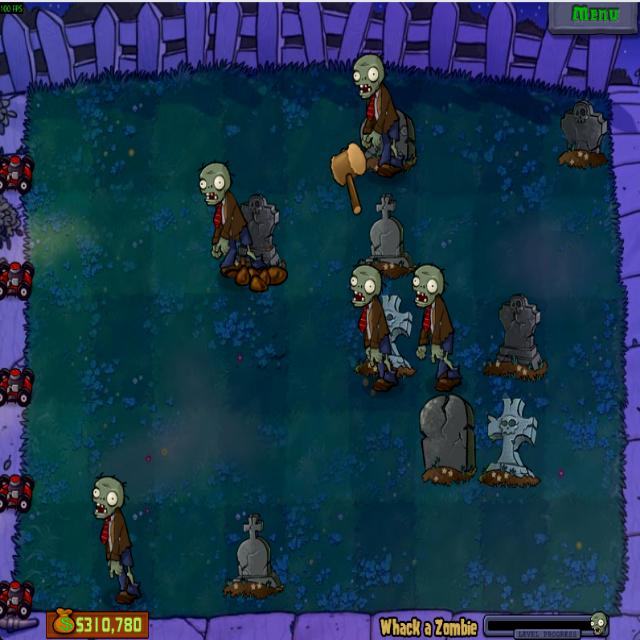grave: (483, 295, 548, 382), (478, 397, 540, 487), (417, 396, 478, 486), (223, 512, 285, 599), (359, 192, 416, 278), (229, 193, 283, 278), (364, 294, 418, 379), (358, 105, 417, 176), (554, 99, 610, 169)
zombie: (408, 258, 447, 309), (350, 50, 386, 100), (345, 264, 383, 310), (196, 159, 233, 206), (90, 474, 126, 522)
